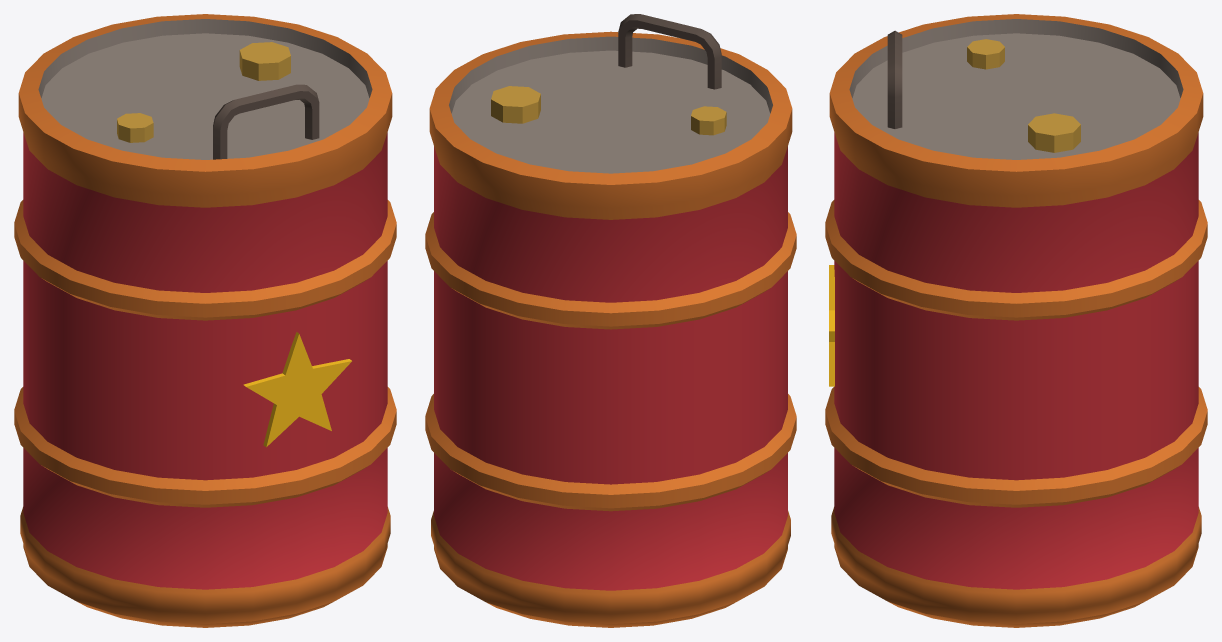
Rendered from barrel__upper.glb.
3 views of the same model, side by side, from view 1: azimuth 30°, elevation 25°; view 2: azimuth 150°, elevation 25°; view 3: azimuth 270°, elevation 25° (orthographic). The views are drawn at different scales.
Parts seen in each view (by area): view 1: Body; view 2: Body; view 3: Body.
Part boxes in pixels (x1,y1,x2,y2): Body: (14, 14, 396, 627); Body: (425, 14, 796, 627); Body: (825, 14, 1207, 627).
Bounding box in the file's own units: 0.504 × 0.7409 × 0.504.
